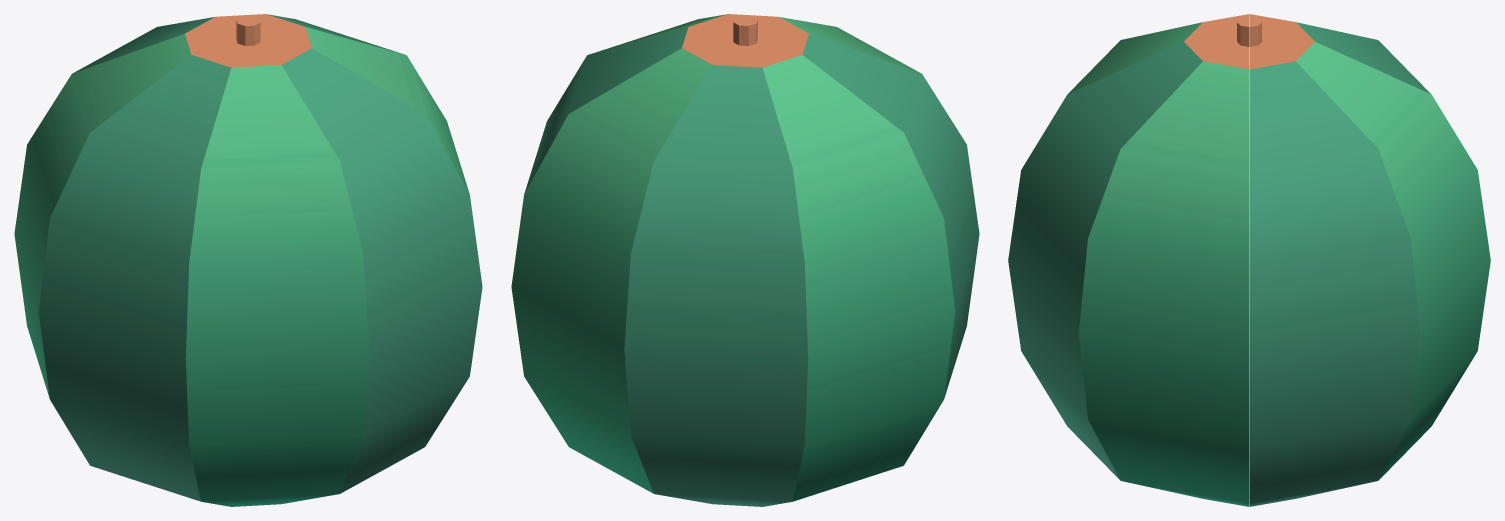
Rendered from vattenmelon.glb.
3 views of the same model, side by side, from view 1: azimuth 30°, elevation 25°; view 2: azimuth 150°, elevation 25°; view 3: azimuth 270°, elevation 25° (orthographic).
Parts seen in each view (by area): view 1: slice (×7); view 2: slice (×7); view 3: slice (×6).
Boxes of the visible parts, <box> form: slice (×7): <box>14,14,482,506</box>; slice (×7): <box>511,14,979,506</box>; slice (×6): <box>1008,18,1490,506</box>.
Bounding box in the file's own units: 0.4554 × 0.4761 × 0.4554.
1 material, 1 textured.
